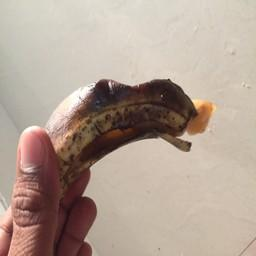Bad_banana: (33, 70, 216, 185)
